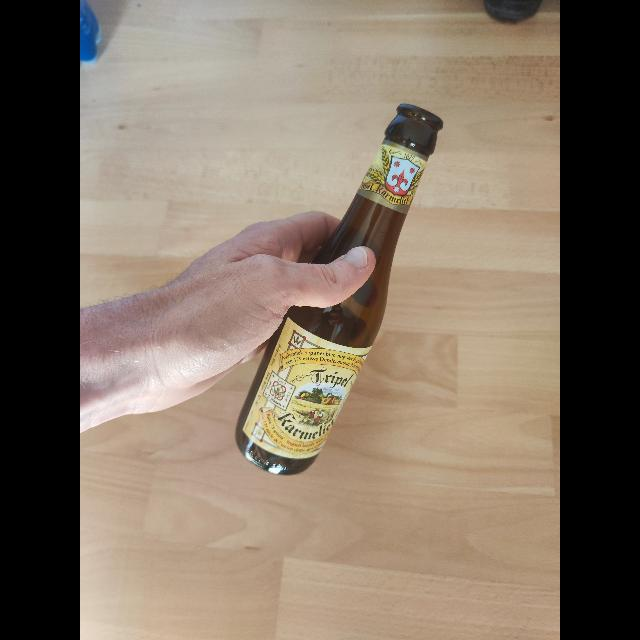Glass: (236, 94, 444, 473)
